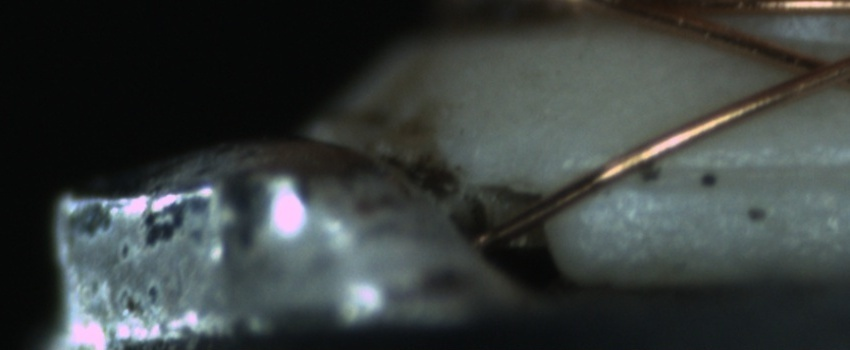CL: (775, 44, 849, 97)
DL: (625, 135, 845, 208)
